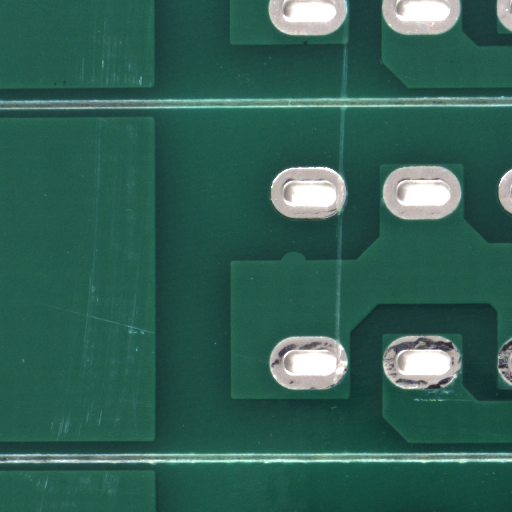Spur: (294, 256, 322, 266)
